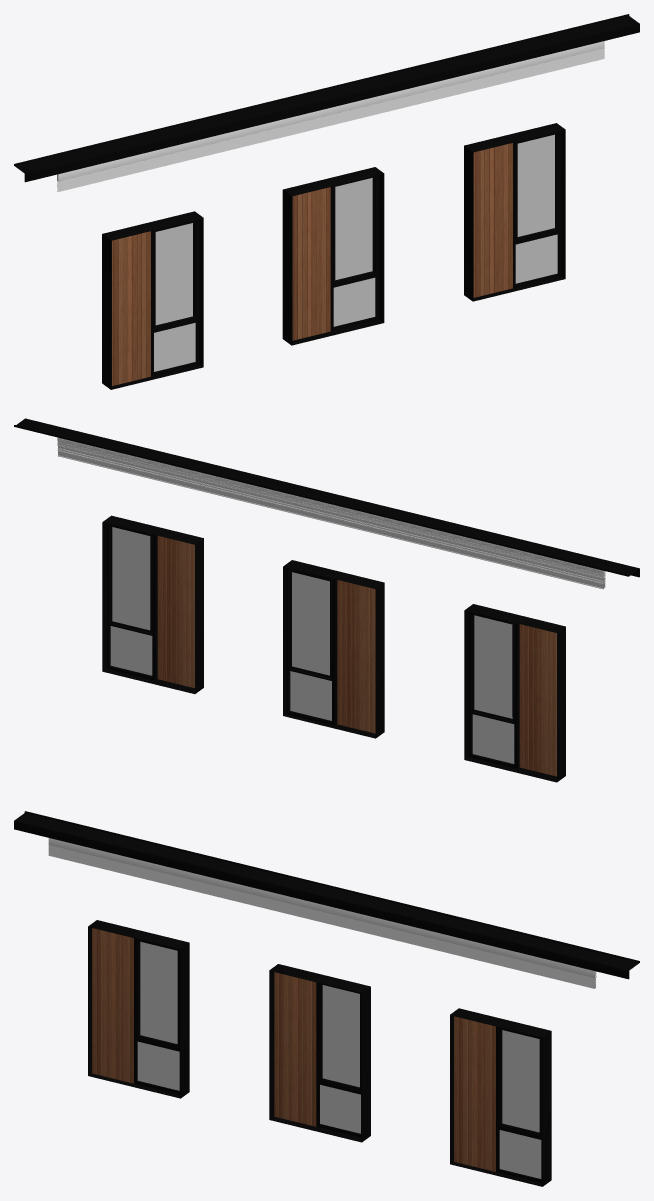
Rendered from MatrixFachadaH2.glb.
The picture shows the model from 3 angles, top to bottom: view 1: azimuth 30°, elevation 25°; view 2: azimuth 150°, elevation 25°; view 3: azimuth 330°, elevation 25°; orthographic projection.
Visible parts, largest first — view 1: Box006, Ventana1, Ventana3, Ventana2, Lamas3, Lamas1, Lamas2, matriz2_j, matriz2_h, Marco2, Marco1, Marco3 (+2 smaller); view 2: Ventana2, Ventana1, Ventana3, Box006, Lamas2, Lamas1, Lamas3, Marco3, Marco1, Marco2, matriz2_e, matriz2_c (+10 smaller); view 3: Box006, Ventana3, Ventana1, Ventana2, Lamas2, Lamas3, Lamas1, matriz2_j, matriz2_h, Marco2, Marco3, Marco1 (+2 smaller).
Boxes of the visible parts, left/top/right/bottom form: Box006: left=14, top=14, right=639, bottom=182; Ventana1: left=151, top=219, right=199, bottom=376; Ventana3: left=513, top=131, right=561, bottom=287; Ventana2: left=330, top=175, right=378, bottom=331; Lamas3: left=473, top=143, right=512, bottom=297; Lamas1: left=112, top=231, right=150, bottom=385; Lamas2: left=292, top=187, right=330, bottom=340; matriz2_j: left=57, top=49, right=604, bottom=191; matriz2_h: left=58, top=41, right=604, bottom=181; Marco2: left=282, top=167, right=384, bottom=345; Marco1: left=102, top=211, right=203, bottom=389; Marco3: left=464, top=123, right=565, bottom=301; Ventana2: left=286, top=567, right=337, bottom=725; Ventana1: left=468, top=611, right=519, bottom=768; Ventana3: left=107, top=523, right=157, bottom=680; Box006: left=14, top=418, right=639, bottom=577; Lamas2: left=337, top=580, right=375, bottom=733; Lamas1: left=519, top=624, right=556, bottom=776; Lamas3: left=157, top=536, right=194, bottom=688; Marco3: left=102, top=515, right=203, bottom=693; Marco1: left=464, top=604, right=565, bottom=782; Marco2: left=283, top=560, right=384, bottom=738; matriz2_e: left=57, top=445, right=603, bottom=583; matriz2_c: left=58, top=445, right=603, bottom=589; Box006: left=14, top=811, right=639, bottom=979; Ventana3: left=496, top=1026, right=541, bottom=1182; Ventana1: left=134, top=938, right=179, bottom=1094; Ventana2: left=316, top=982, right=360, bottom=1137; Lamas2: left=274, top=972, right=316, bottom=1126; Lamas3: left=454, top=1016, right=495, bottom=1171; Lamas1: left=92, top=928, right=133, bottom=1083; matriz2_j: left=48, top=846, right=596, bottom=988; matriz2_h: left=48, top=838, right=594, bottom=978; Marco2: left=269, top=964, right=370, bottom=1142; Marco3: left=450, top=1008, right=551, bottom=1186; Marco1: left=88, top=920, right=189, bottom=1098.
Size of the model in its own units: 9 by 3.26 by 0.4363.
Materials: 5 (1 with a texture image).
